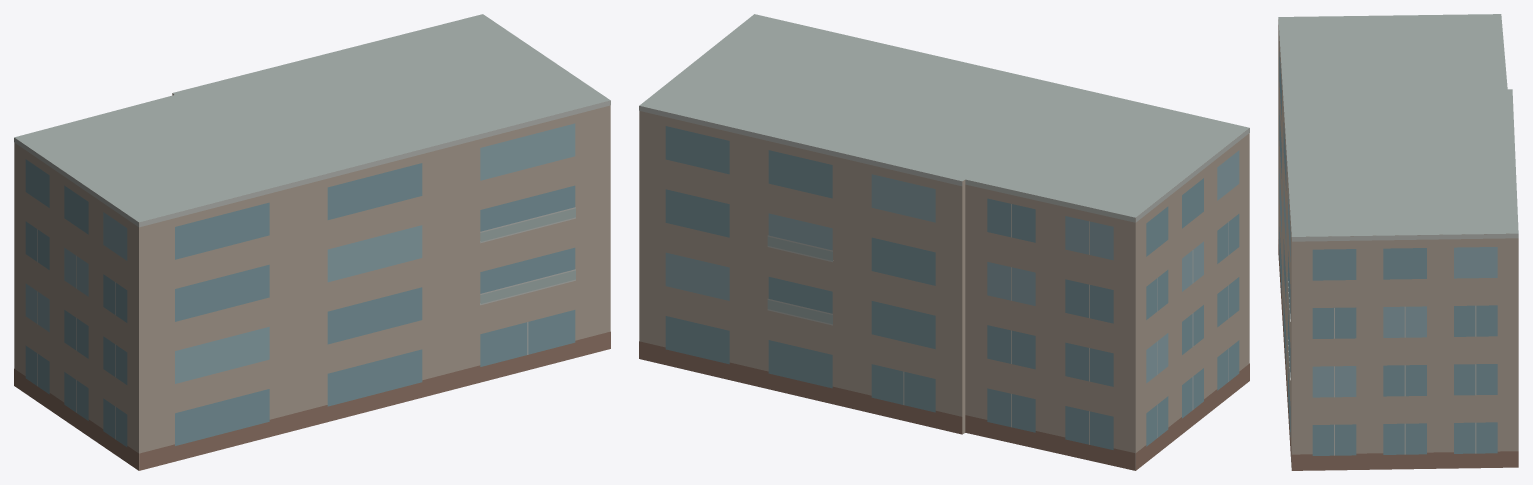
File: survey-upis-33039921.glb
The picture shows the model from 3 angles, left to right: view 1: azimuth 30°, elevation 25°; view 2: azimuth 150°, elevation 25°; view 3: azimuth 270°, elevation 25°; orthographic projection. The views are drawn at different scales.
Parts seen in each view (by area): view 1: survey-upis-33039921.tmp; view 2: survey-upis-33039921.tmp; view 3: survey-upis-33039921.tmp.
Part boxes in pixels (x1,y1,x2,y2): survey-upis-33039921.tmp: (14,14,610,470); survey-upis-33039921.tmp: (639,14,1249,470); survey-upis-33039921.tmp: (1278,14,1518,470).
Bounding box in the file's own units: 24.95 × 12.2 × 11.37.
